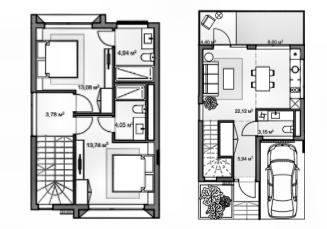door: (236, 177, 258, 199), (71, 93, 94, 114), (71, 115, 93, 135), (212, 27, 232, 47), (96, 115, 116, 134), (96, 30, 117, 48), (240, 120, 258, 137)
window: (87, 203, 146, 212), (42, 21, 95, 30), (29, 92, 39, 137), (115, 22, 149, 30), (254, 44, 292, 51), (300, 58, 306, 101), (37, 203, 55, 211)
